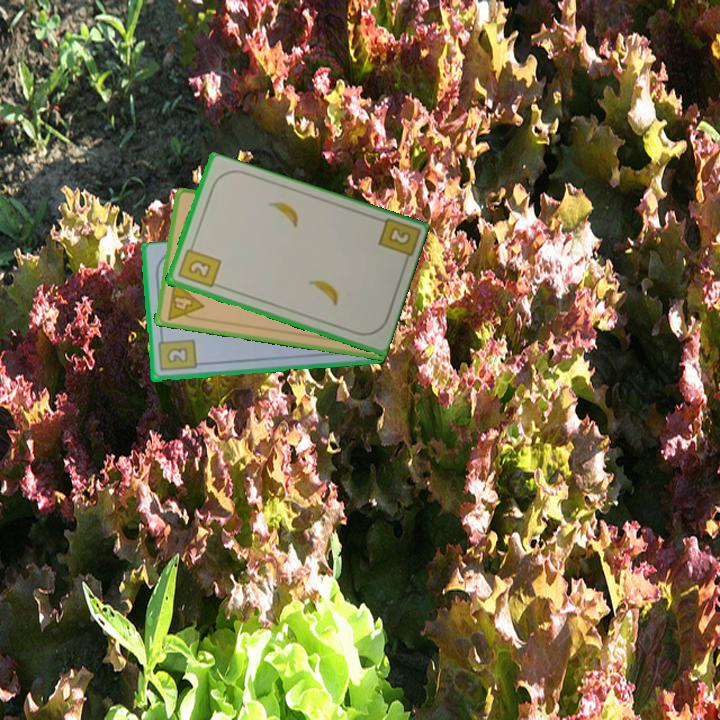2b: (174, 240, 223, 291), (154, 332, 198, 374), (384, 224, 413, 248)
4p: (163, 278, 206, 324)
